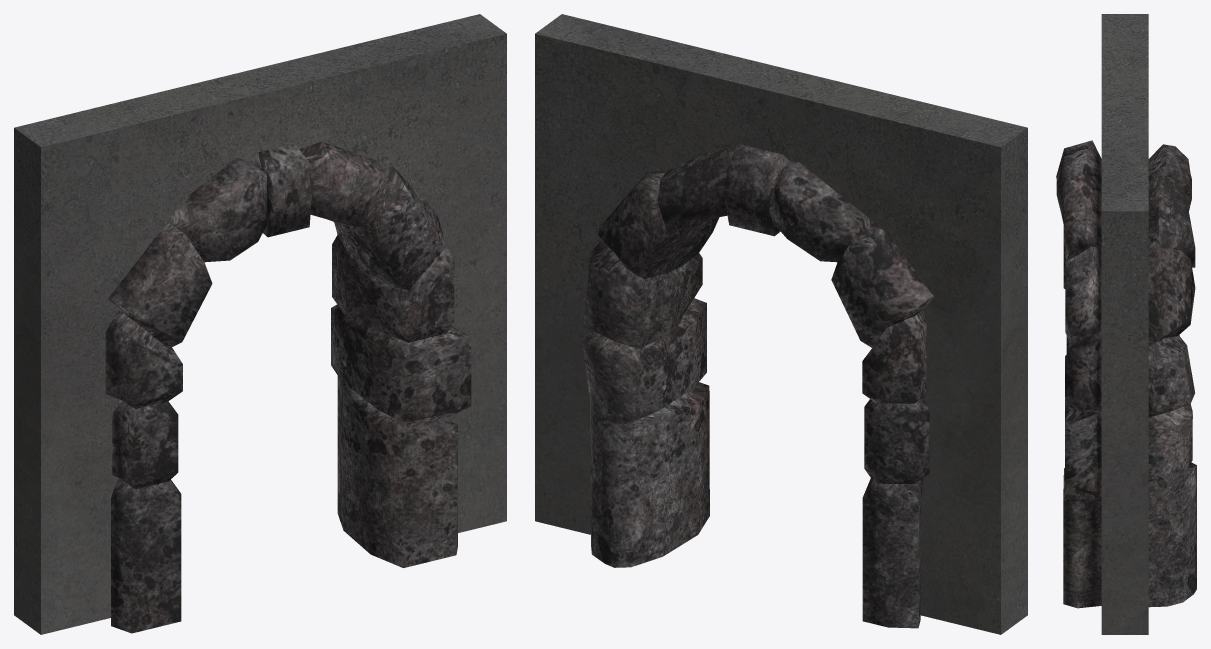
Rendered from Wall_door.fbx.
The picture shows the model from 3 angles, left to right: view 1: azimuth 30°, elevation 25°; view 2: azimuth 150°, elevation 25°; view 3: azimuth 270°, elevation 25°; orthographic projection. The views are drawn at different scales.
Parts seen in each view (by area): view 1: Wall_door; view 2: Wall_door; view 3: Wall_door.
Part boxes in pixels (left/top/right/bottom): Wall_door: left=14, top=14, right=506, bottom=634; Wall_door: left=535, top=14, right=1027, bottom=634; Wall_door: left=1056, top=14, right=1196, bottom=634.
Size of the model in its own units: 3 by 3 by 0.9037.
1 material, 1 textured.
